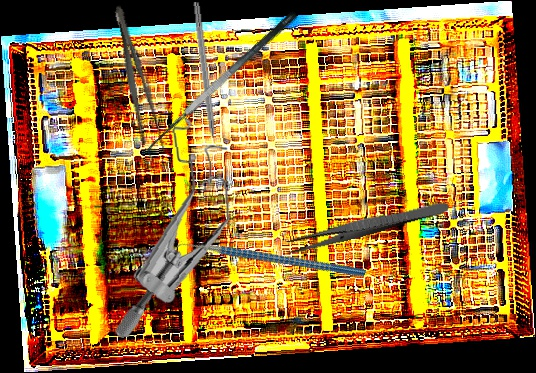Chopper: (167, 184, 367, 340)
Dressing Forceps: (283, 196, 451, 257), (105, 2, 170, 158)
Hook Surgical: (191, 1, 219, 158)
Spatula Surgical: (136, 8, 310, 166)
Speculum: (97, 114, 244, 339)
